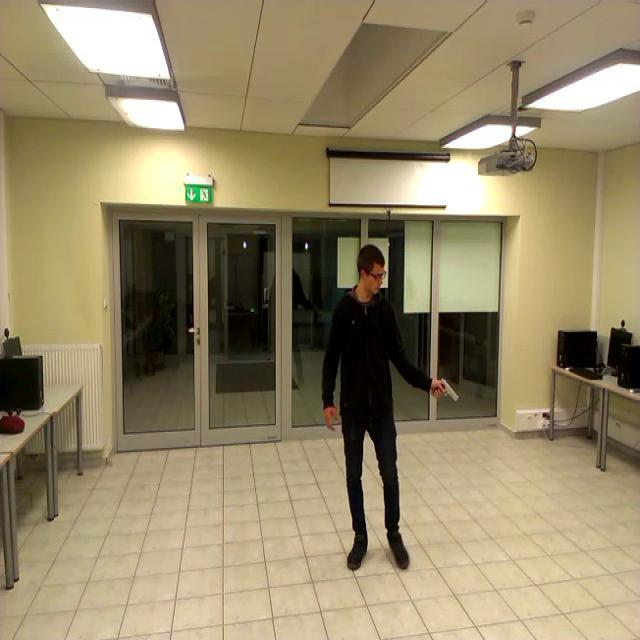Gun: (433, 376, 460, 401)
